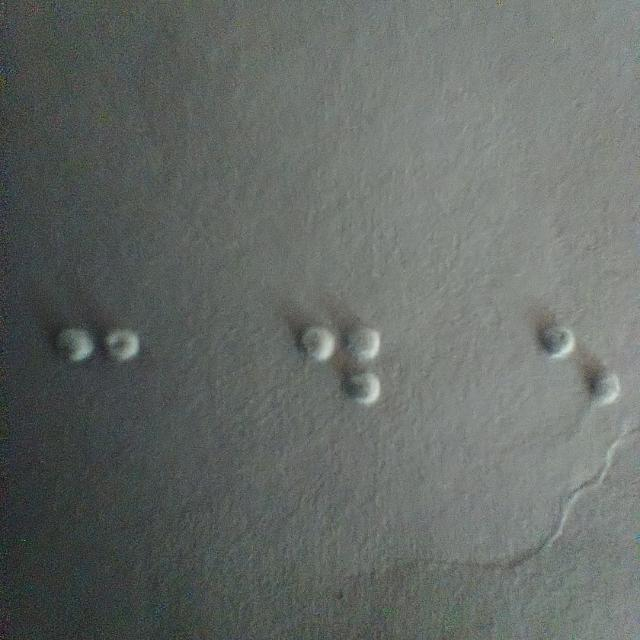letter_c: (51, 328, 144, 462)
letter_d: (297, 328, 383, 462)
letter_e: (537, 327, 623, 461)
